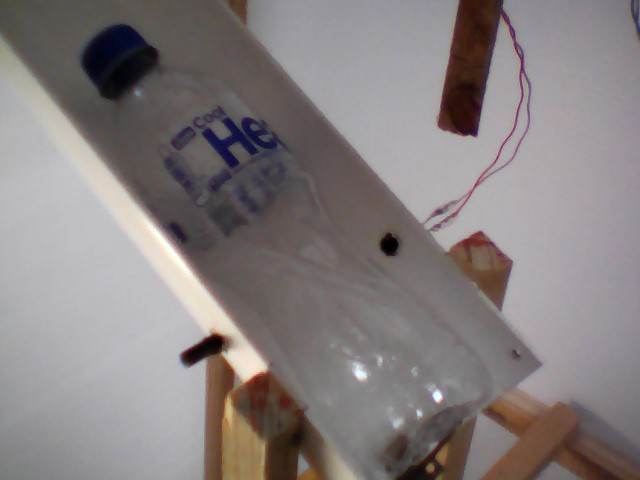plastico: (74, 15, 498, 480)
